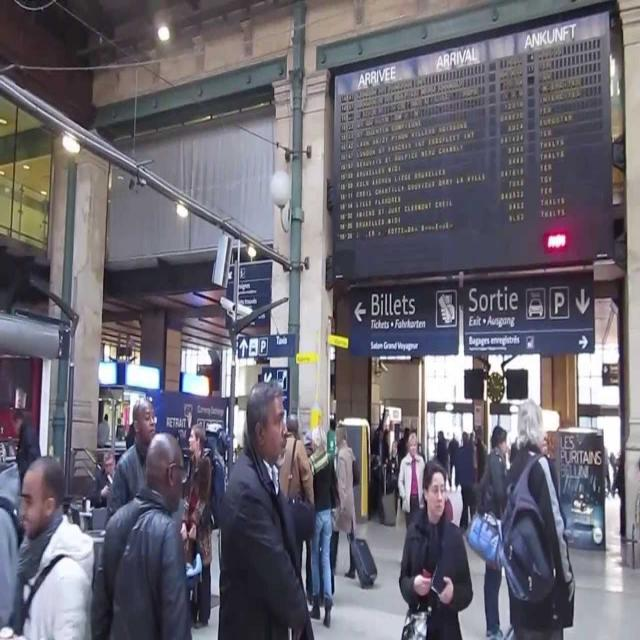body: (215, 377, 316, 639), (495, 398, 579, 639), (369, 424, 640, 496), (104, 431, 188, 637), (6, 452, 96, 640), (398, 457, 474, 640), (466, 422, 510, 640), (302, 401, 338, 605), (307, 425, 341, 628), (180, 422, 213, 630), (276, 412, 316, 570), (106, 396, 155, 524), (236, 414, 298, 506), (0, 459, 26, 637), (329, 422, 356, 580), (397, 431, 426, 533), (12, 409, 42, 483), (89, 446, 117, 509), (216, 422, 232, 524), (116, 409, 138, 450), (97, 412, 111, 450)
